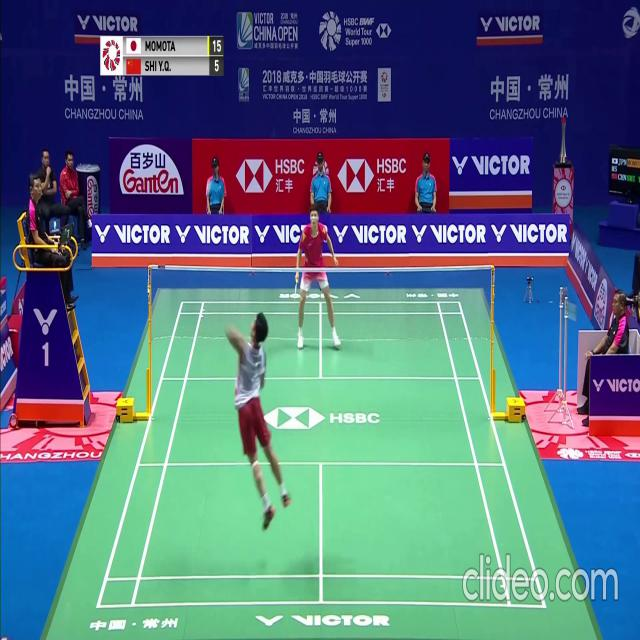Shuttlecock: (206, 185, 210, 192)
